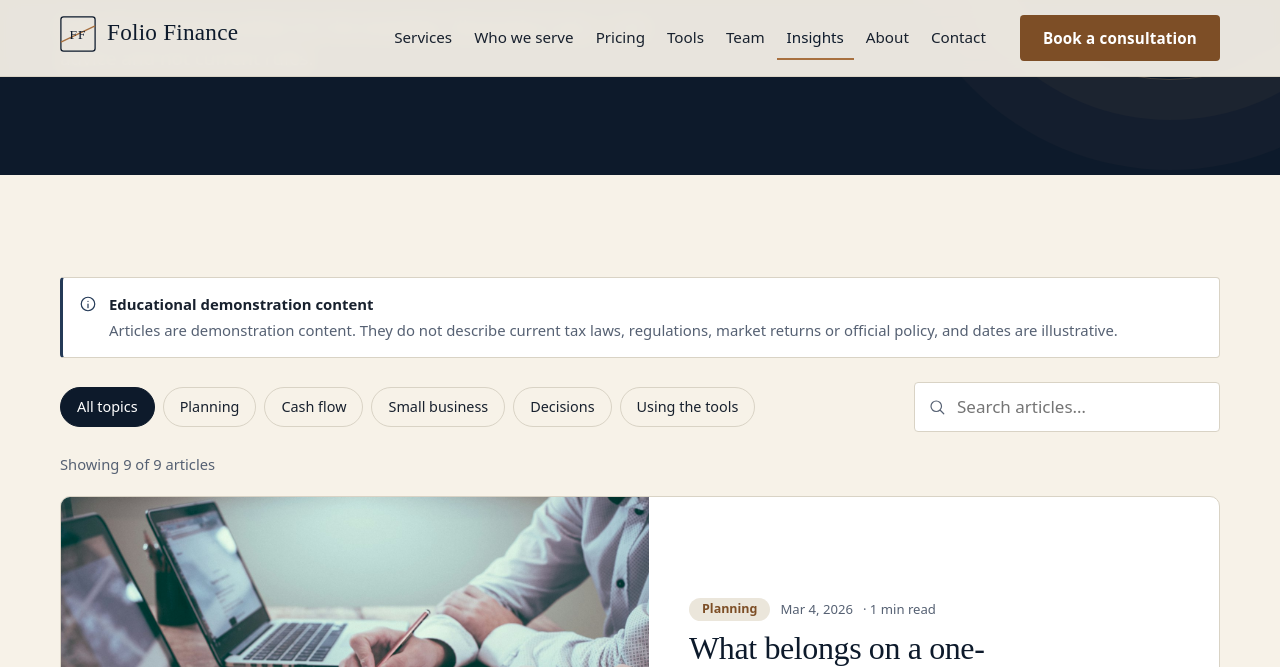
Test: insights › shows an empty state with no results
The image size is (1280, 667).
(page scrolled)
Type "qwertyuiop" into the search field labelled "Search articles…" at (1067, 407), box [914,382,1220,432]
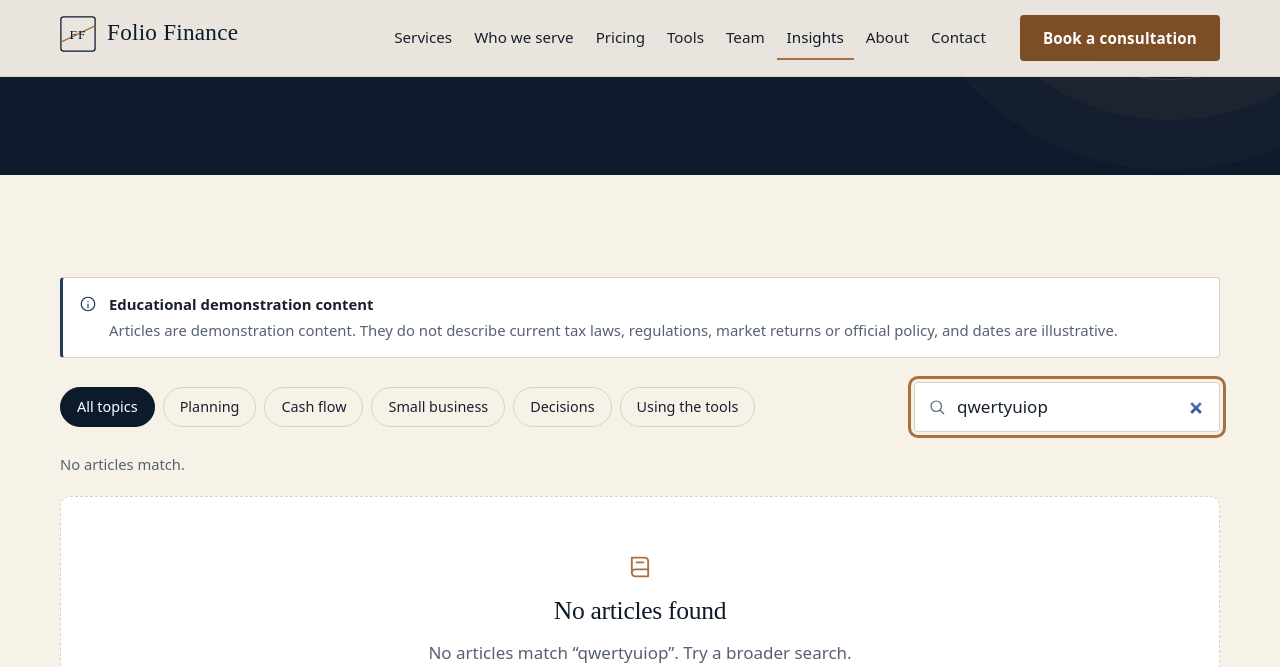
Check: the heading "No articles found" is shown, box [554,596,726,625]
